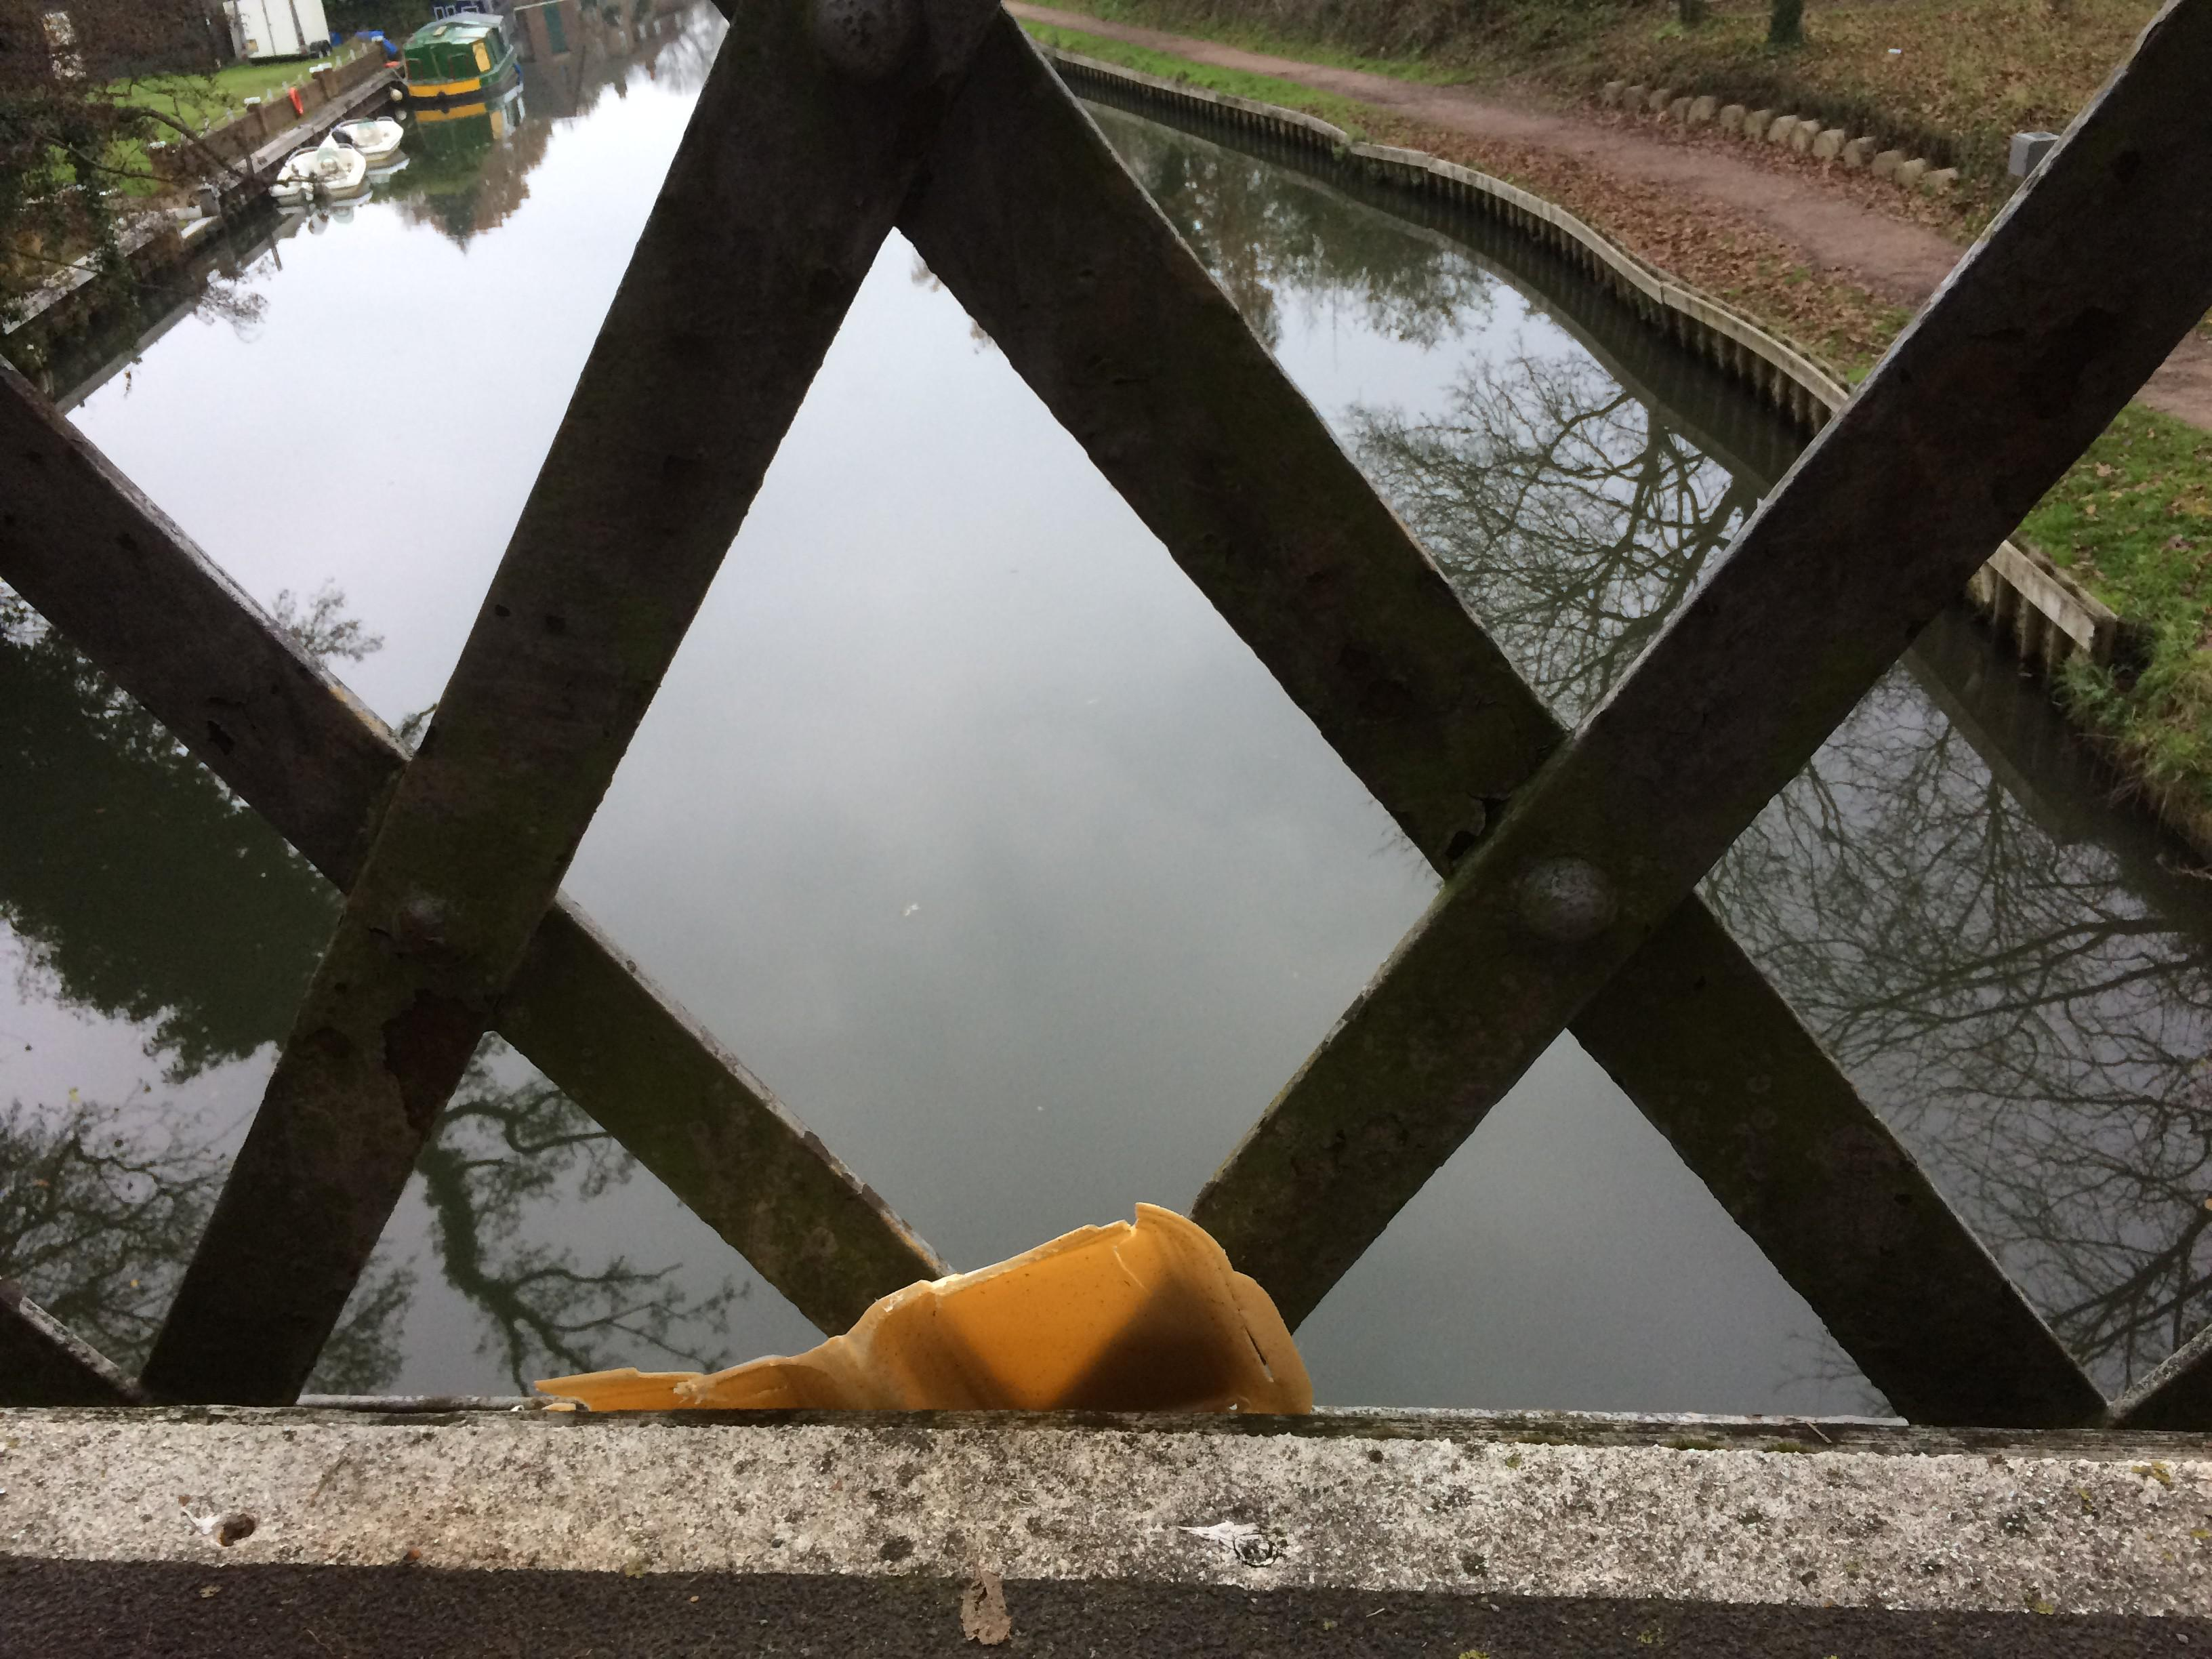Trash: (554, 1192, 1317, 1436)
